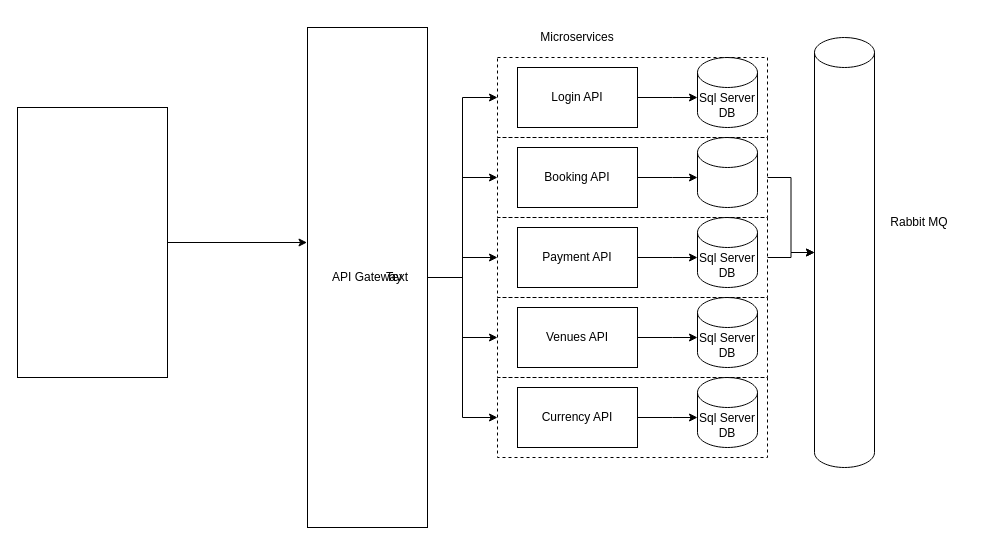
Some shapes in this 982 by 545 pixel diagram are drawn without their labels. The box of each missing label's shape, as (x1, y1, x2, y2) in pixels:
Event bus: (814, 36, 874, 468)
Front End: (16, 106, 168, 378)
Redis: (696, 136, 758, 208)
